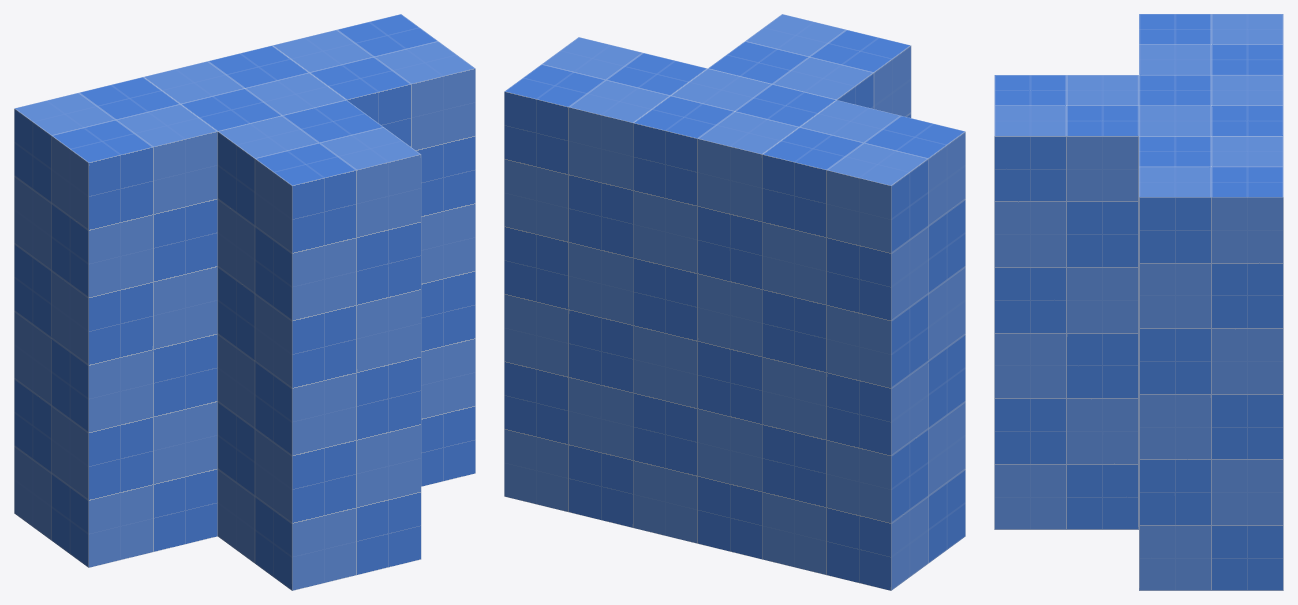
Rendered from WL_TJUNCTION.gltf.
3 renders of one model, left to right at view 1: azimuth 30°, elevation 25°; view 2: azimuth 150°, elevation 25°; view 3: azimuth 270°, elevation 25°, orthographic. The views are drawn at different scales.
Parts seen in each view (by area): view 1: WL_TJUNCTION; view 2: WL_TJUNCTION; view 3: WL_TJUNCTION.
Part boxes in pixels (box(x1,y1,x2,y2)): WL_TJUNCTION: box(14, 14, 475, 590); WL_TJUNCTION: box(504, 14, 965, 590); WL_TJUNCTION: box(994, 14, 1283, 590).
Size of the model in its own units: 3 by 3 by 2.
Materials: 1 (1 with a texture image).
